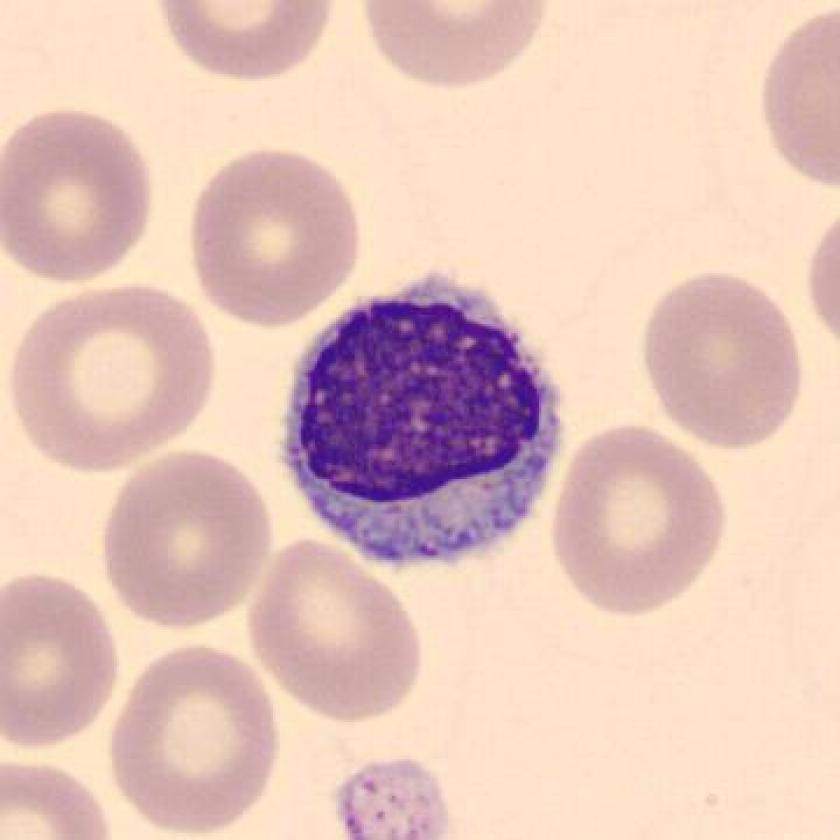lymphocyte: (269, 251, 587, 584)
